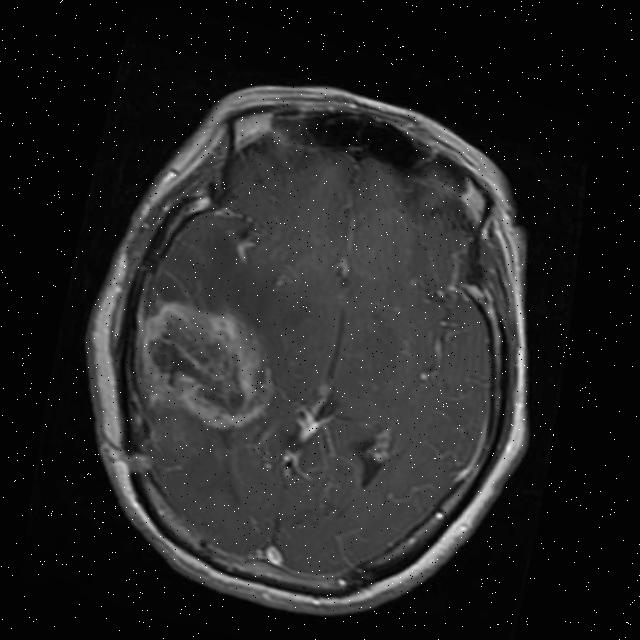Glioma: (124, 286, 288, 445)
